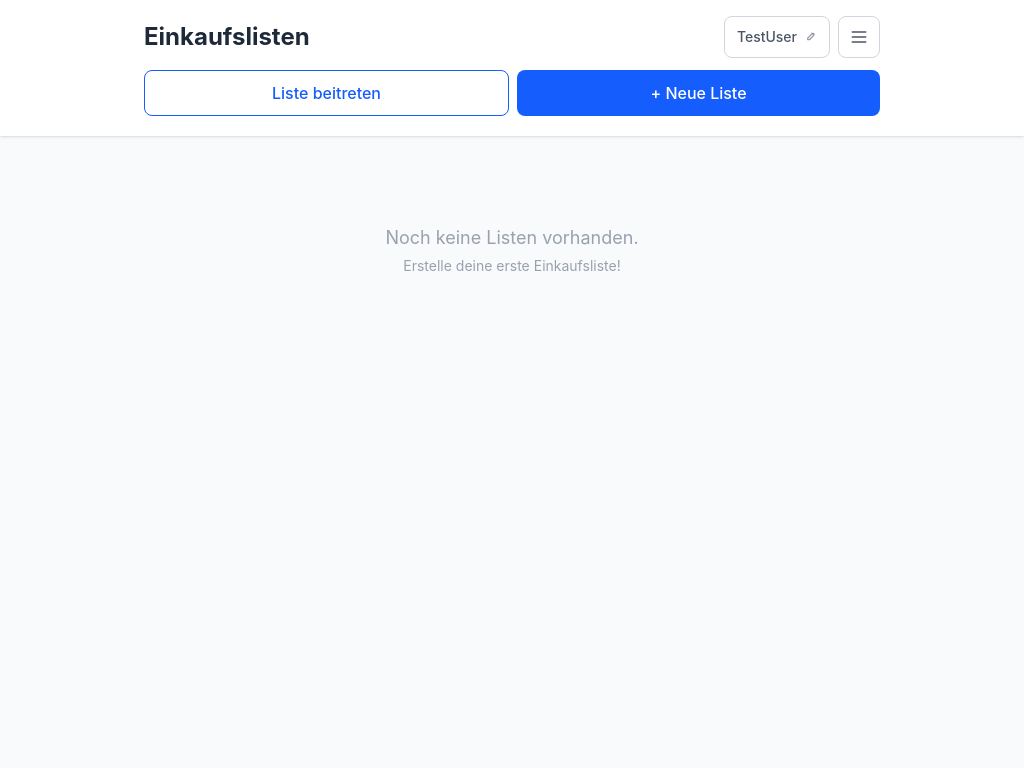
Test: Benutzername ändern › öffnet das Rename-Modal beim Klick auf den Username-Button
Click the button with test id "rename-username-btn" at coordinates (777, 37), box [724,16,830,58]
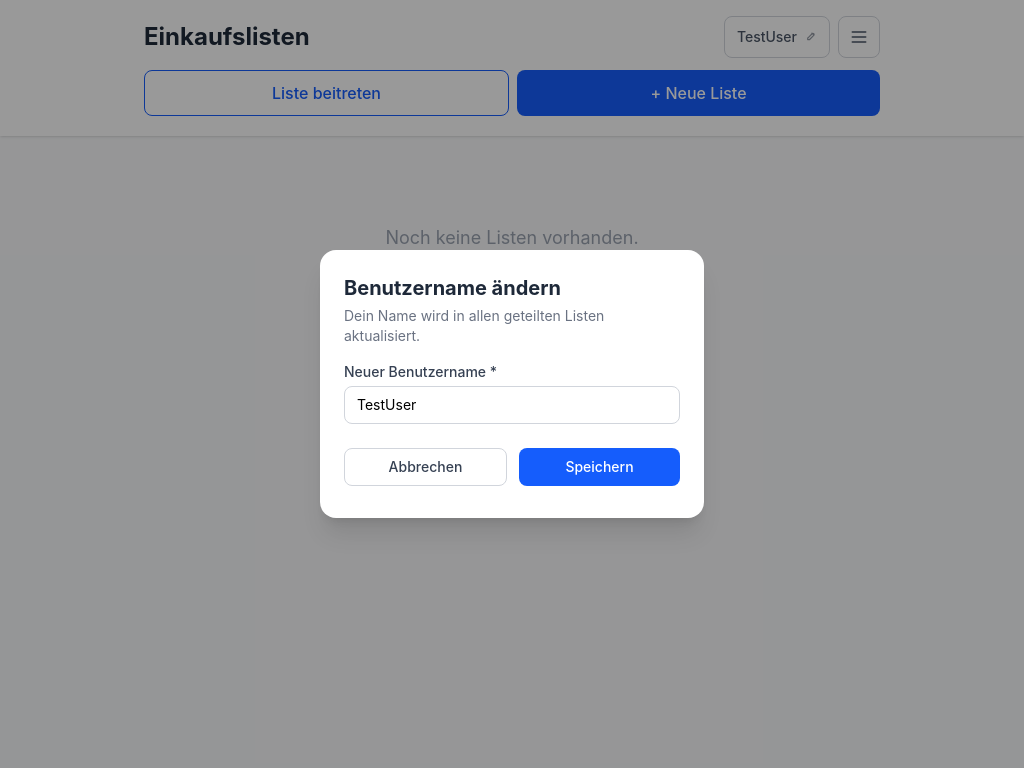
Check: the element with test id "rename-modal" is shown
